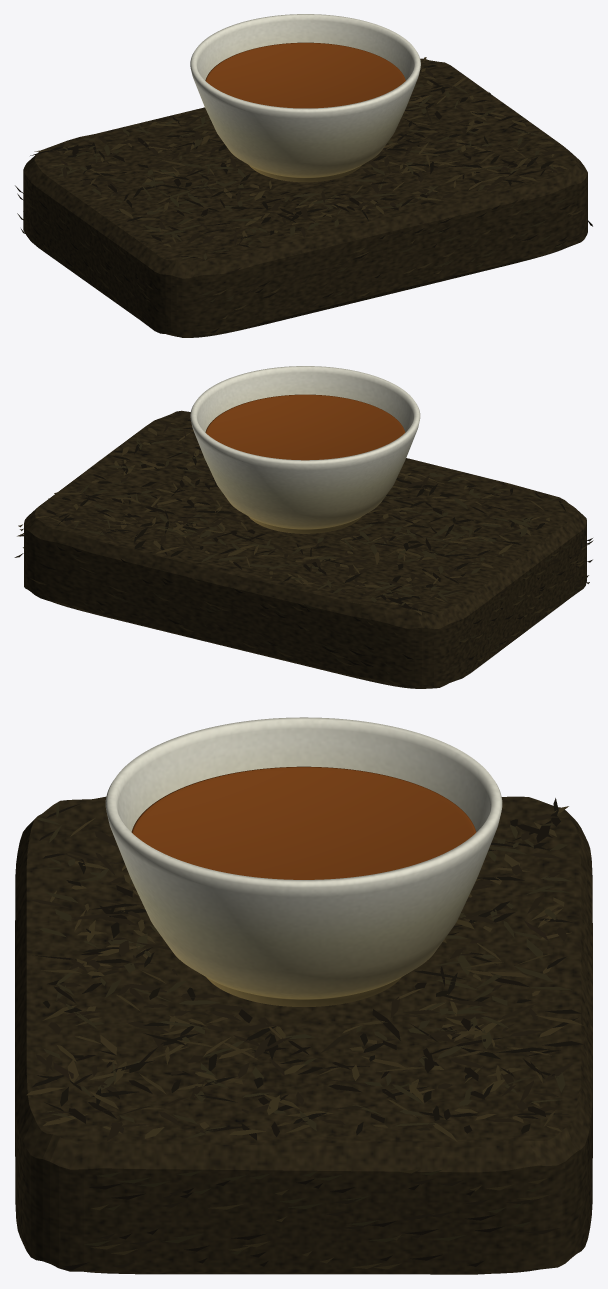
The model's file is xian-tea-original.glb.
3 views of the same model, one above another, from view 1: azimuth 30°, elevation 25°; view 2: azimuth 150°, elevation 25°; view 3: azimuth 270°, elevation 25° (orthographic). The views are drawn at different scales.
Visible parts, largest first — view 1: xian-tea; view 2: xian-tea; view 3: xian-tea.
Part boxes in pixels (x1=…): xian-tea: x1=15, y1=14, x2=592, y2=337; xian-tea: x1=14, y1=366, x2=593, y2=688; xian-tea: x1=15, y1=717, x2=592, y2=1274.
Bounding box in the file's own units: 0.1764 × 0.0674 × 0.1184.
Materials: 7 (7 with a texture image).
